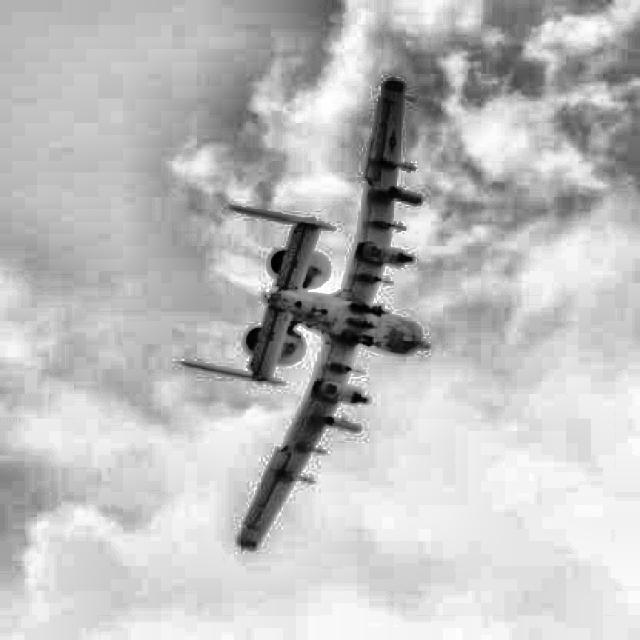A10: (178, 75, 432, 552)
